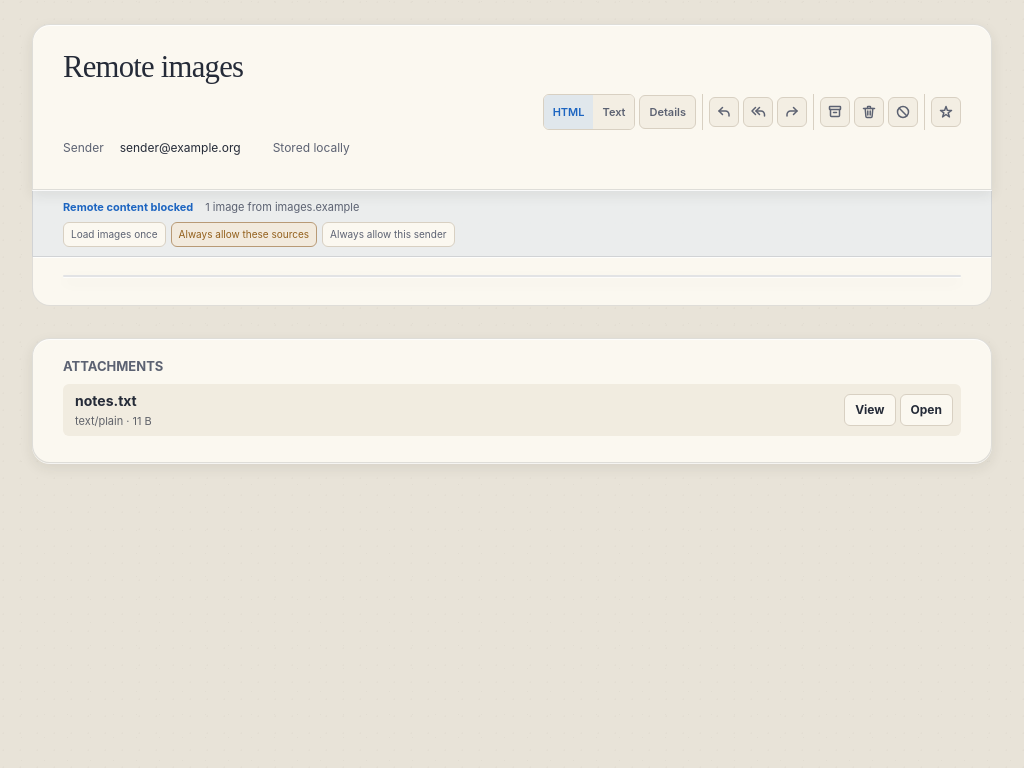
Test: MessageView › views a text attachment in the reading pane
This screenshot has width=1024, height=768.
Click the button with aria-label "View notes.txt". click: (870, 410)
box: left=844, top=394, right=896, bottom=426
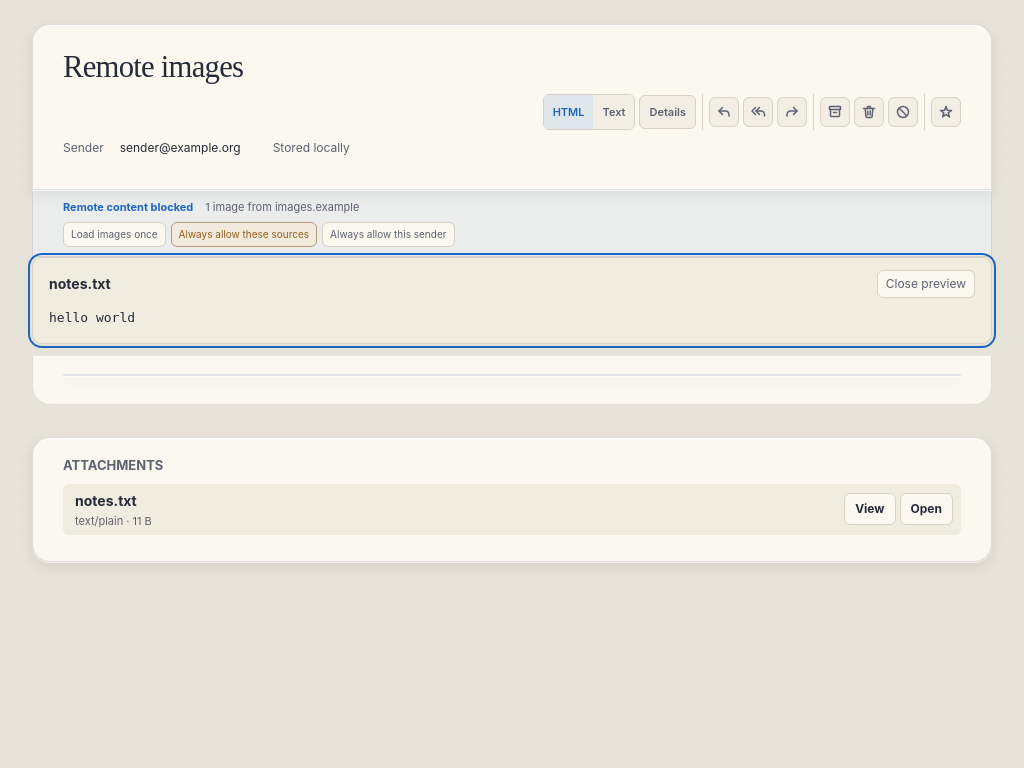
Expected: the element named "Preview of notes.txt" shows "hello world", left=49, top=310, right=135, bottom=325
